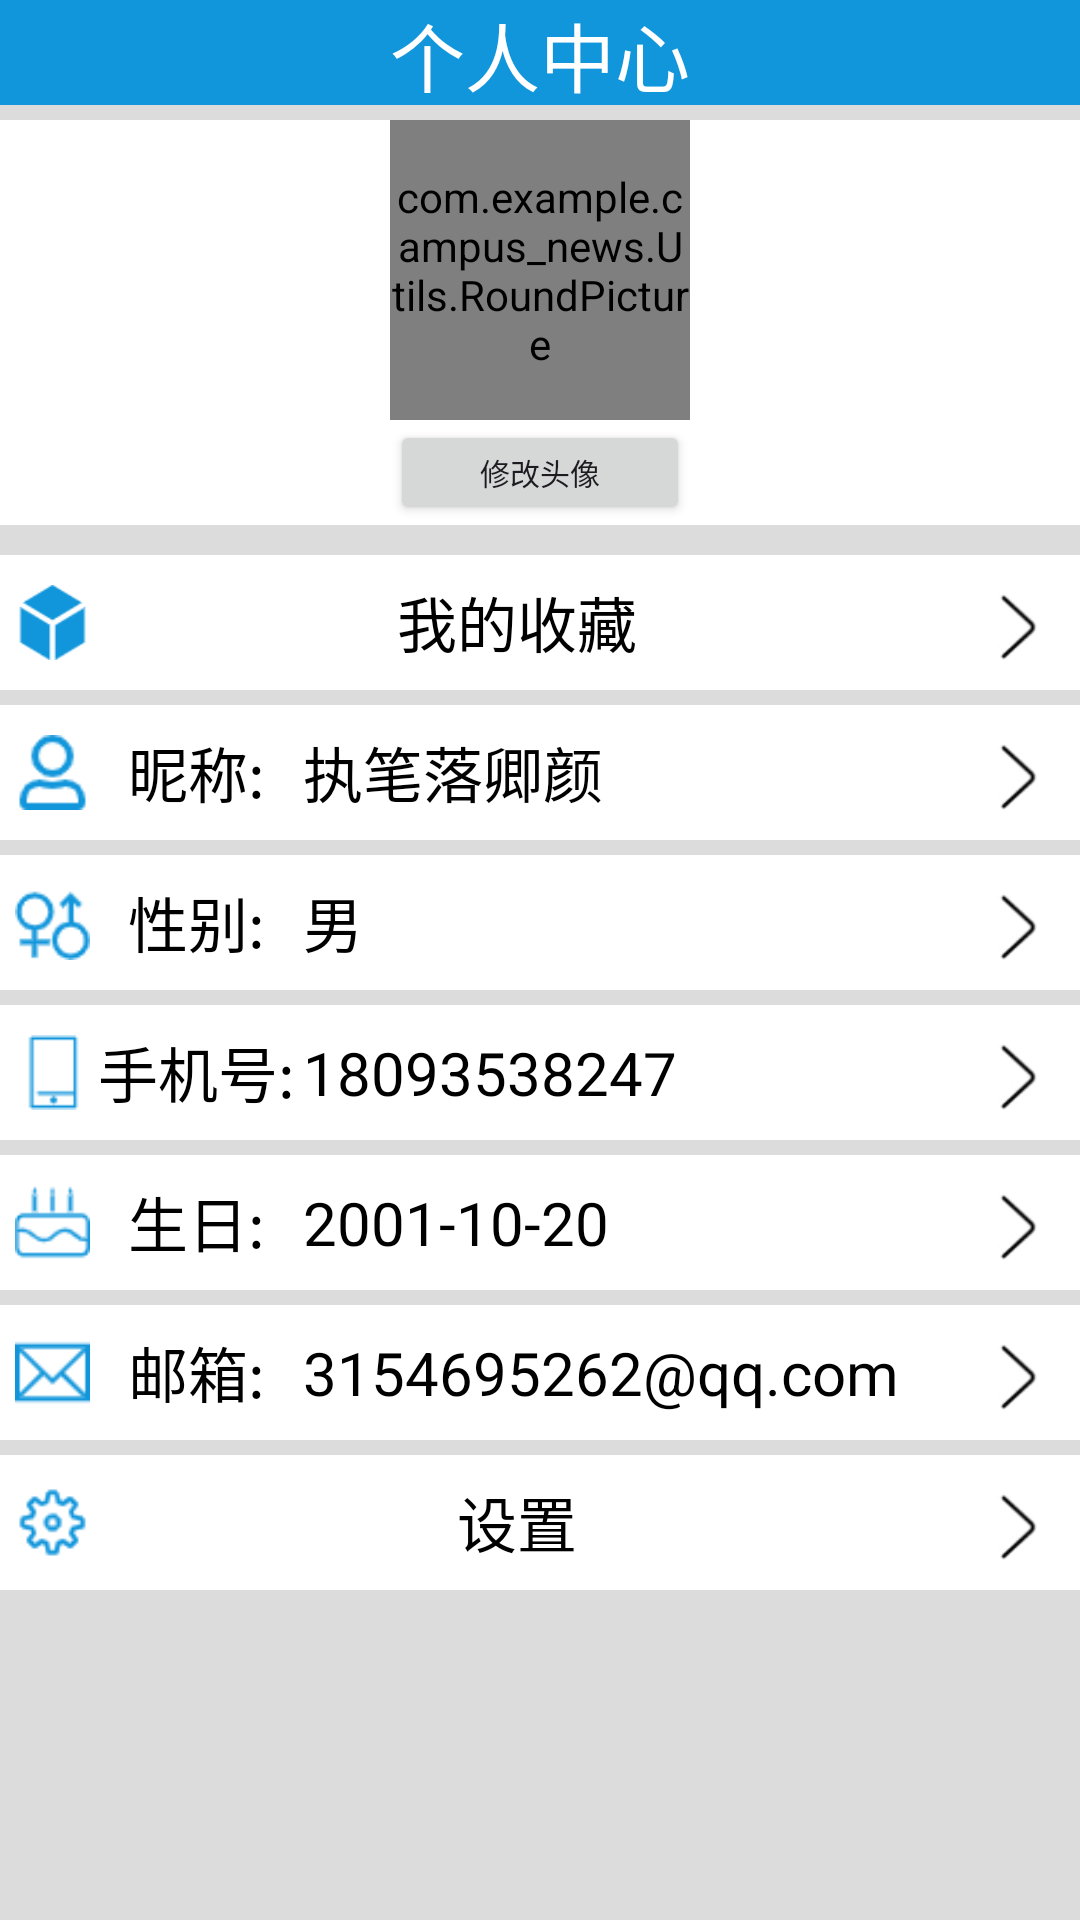

Named icons in this screenshot (1080 x 1920) and their centers, point (x, y):
birthday: point (52, 1222)
email: point (52, 1372)
phone: point (53, 1072)
setting: point (52, 1522)
sex: point (52, 925)
user name: point (52, 772)
